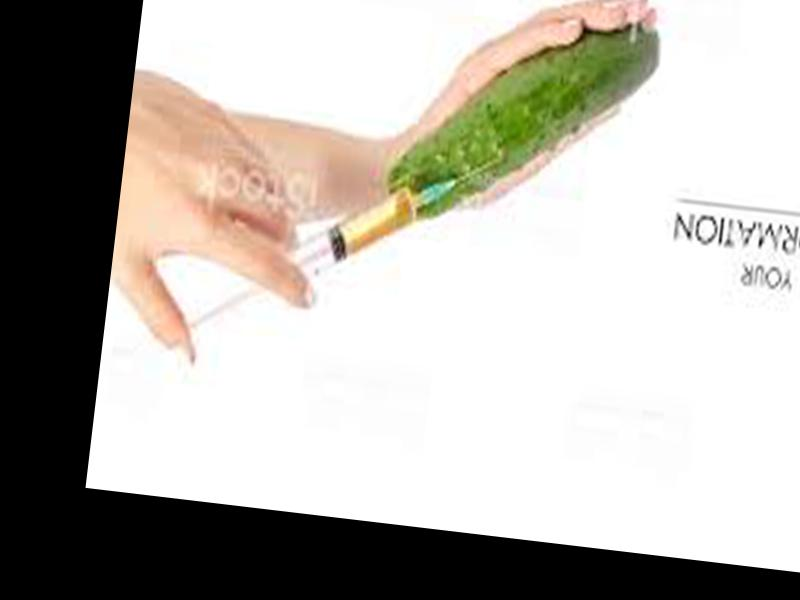Cucumber: (385, 0, 660, 250)
